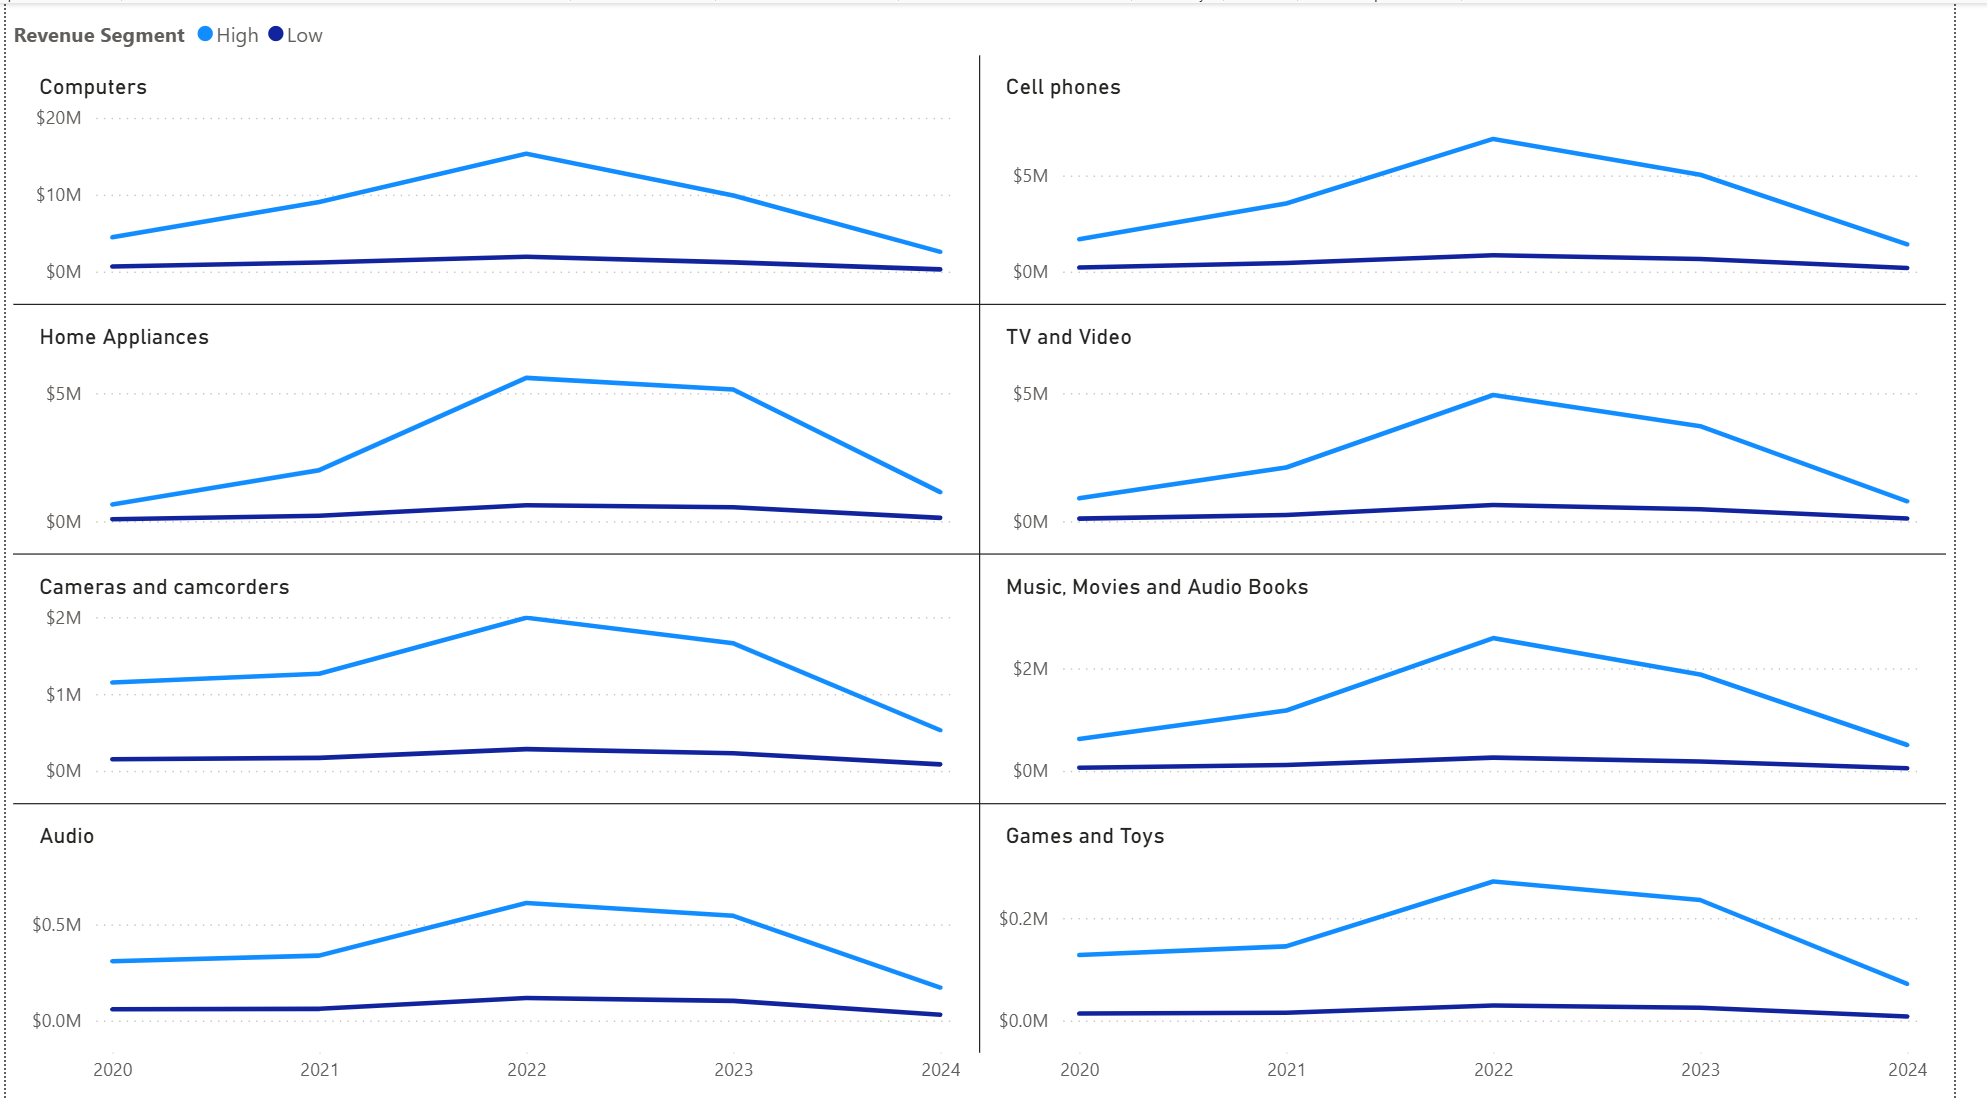

The dashboard page shown, as its layout file describes it:
{"tool":"powerbi","page":{"name":"category_yearly_revenue_segments","canvas":[1280,720],"ordinal":6},"visuals":[{"type":"lineChart","fields":{"Category":["public vw_revenue_distribution.year"],"Series":["public vw_revenue_distribution.revenue_segment"],"Y":["Sum(public vw_revenue_distribution.total_revenue)"],"Rows":["public vw_revenue_distribution.product_category"]},"box":[0,0,1280.2,720.1],"z":0}]}

Visuals, with their boxes in screenshot pixels (x1, y1, x2, y2), scaled from the page's 1280x720 canvas onto the 1987x1099 screenshot:
lineChart - public vw_revenue_distribution.year x public vw_revenue_distribution.revenue_segment: left=0, top=0, right=1986, bottom=1098
